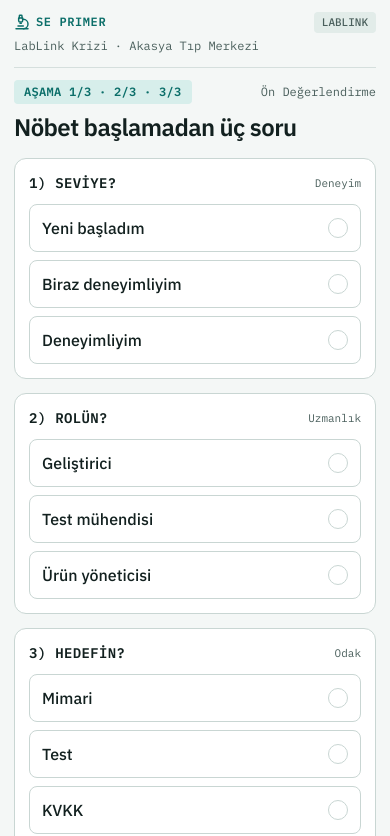
Test: Biraz deneyimliyim: 120 sn ve karar başına tek ipucu › 120 sn gösterir, ipucu bir kez kullanılabilir
The width and height of the screenshot is (390, 836).
Click the radio button with test id "biraz" at [112, 284], box [29, 260, 361, 308]
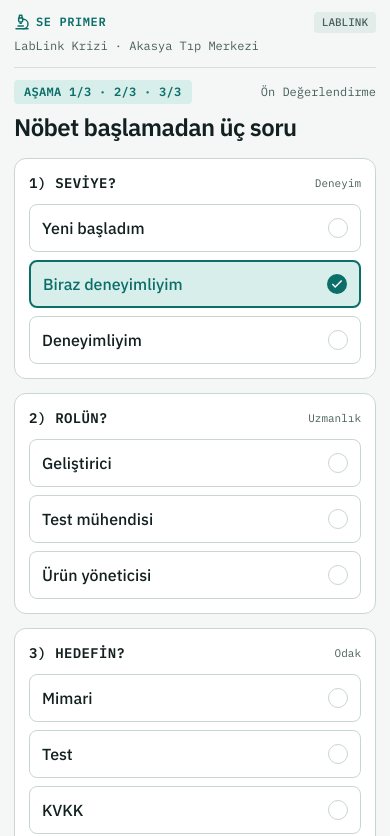
Click the radio button labelled "Geliştirici" at [77, 463], box [29, 439, 361, 487]
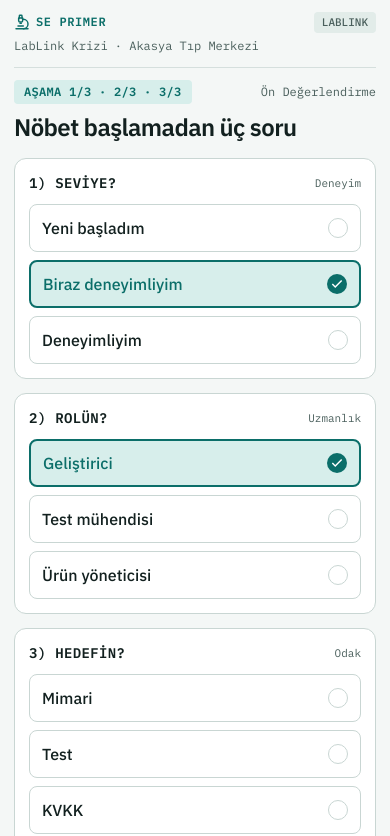
Click the radio button labelled "Mimari" at [67, 698], box [29, 674, 361, 722]
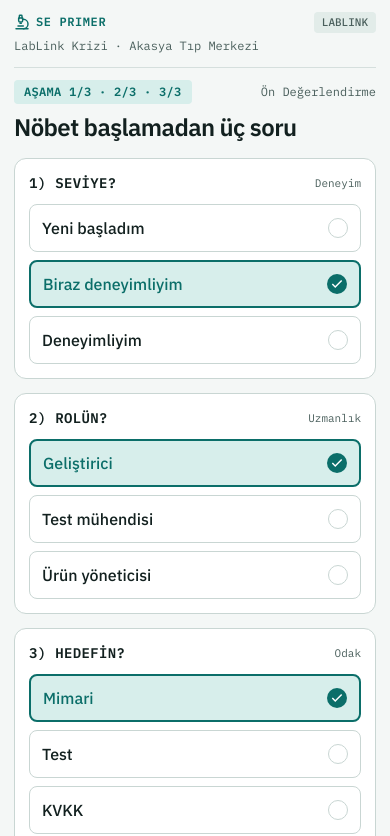
Scroll
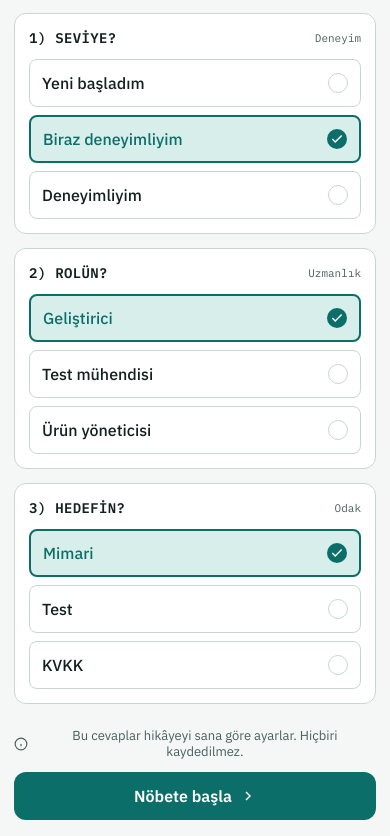
Click the button with test id "start-btn" at [195, 796], box [14, 772, 376, 820]
(page scrolled)
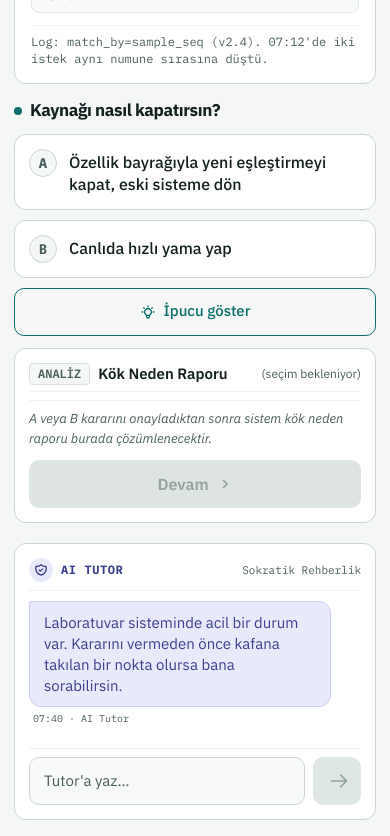
Click the button with test id "hint-btn" at [195, 312], box [14, 288, 376, 336]
(page scrolled)
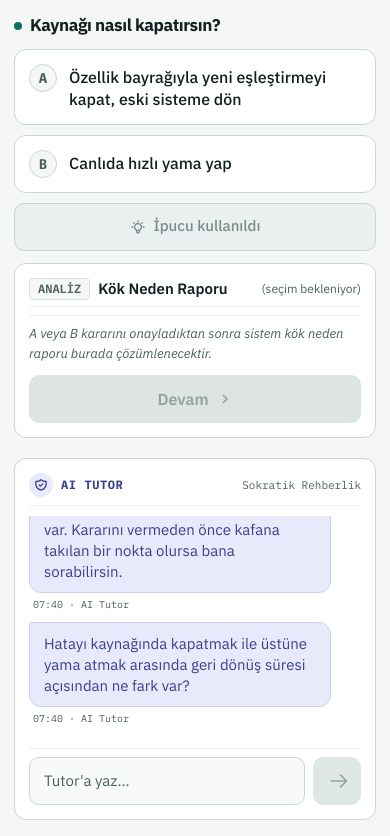
Check: the button with test id "hint-btn" is disabled, box [14, 203, 376, 251]
